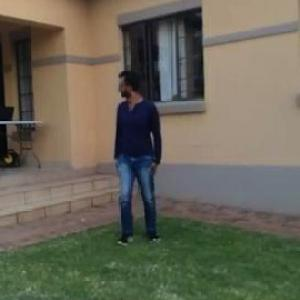follow: (106, 61, 164, 255)
